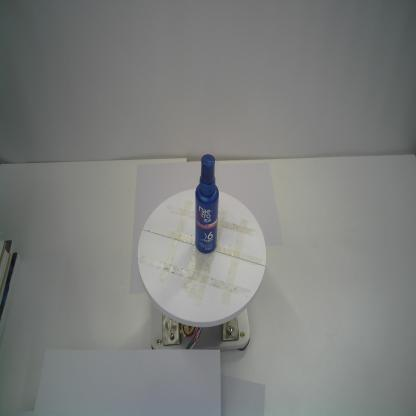Personal Hygiene: (193, 152, 220, 255)
